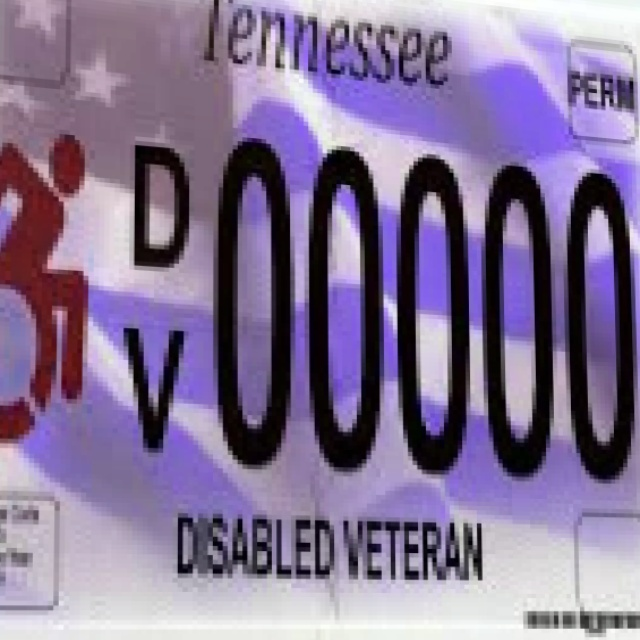ISA: (0, 123, 89, 447)
